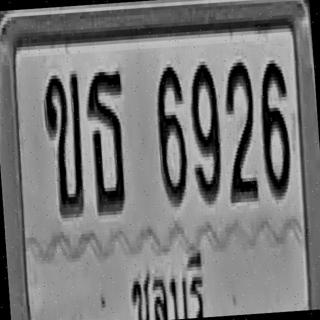A02: (42, 70, 87, 216)
A24: (84, 66, 131, 214)
N02: (220, 58, 259, 199)
N06: (257, 59, 293, 197), (154, 63, 189, 204)
N09: (187, 61, 224, 202)
P13: (129, 245, 206, 320)
